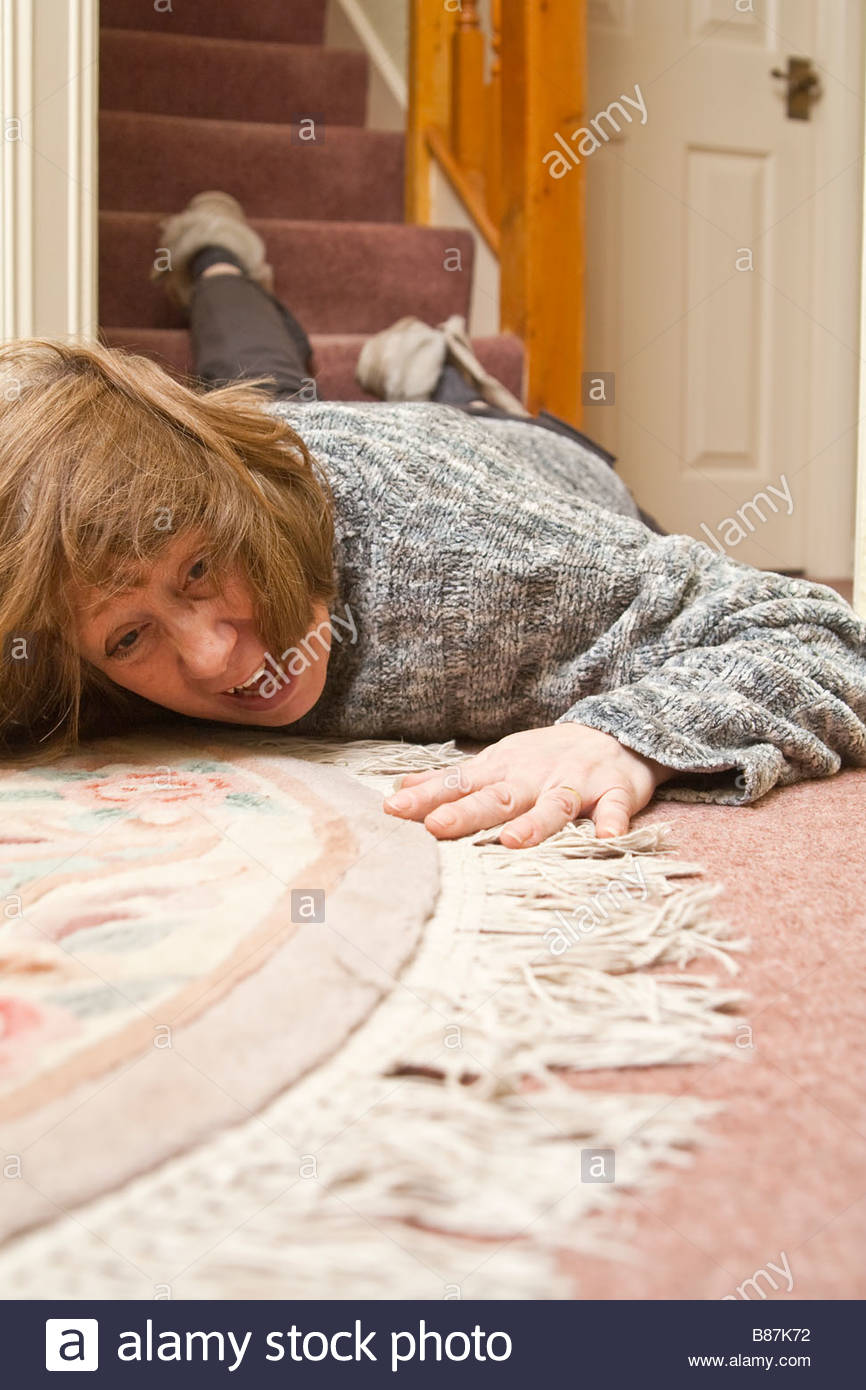collapsed: (7, 159, 866, 877)
